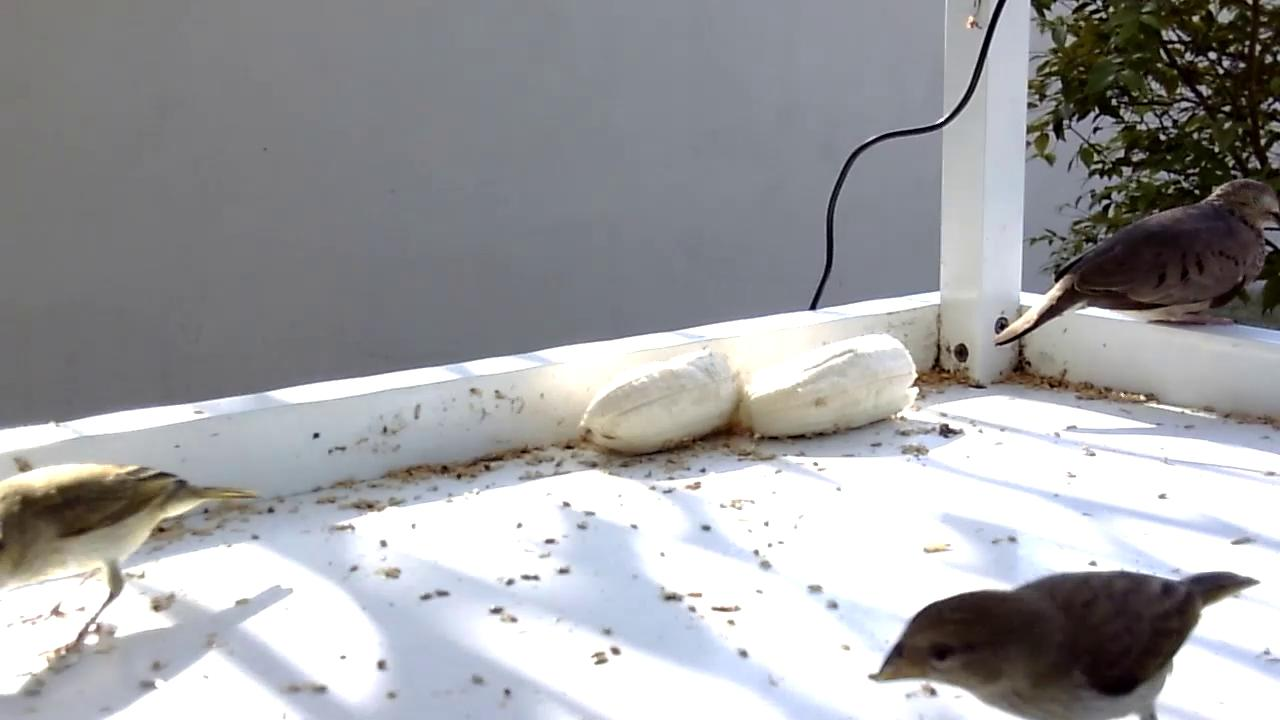canario_do_amazonas: (870, 568, 1265, 720), (1, 462, 263, 669)
rolinha: (991, 179, 1280, 352)
